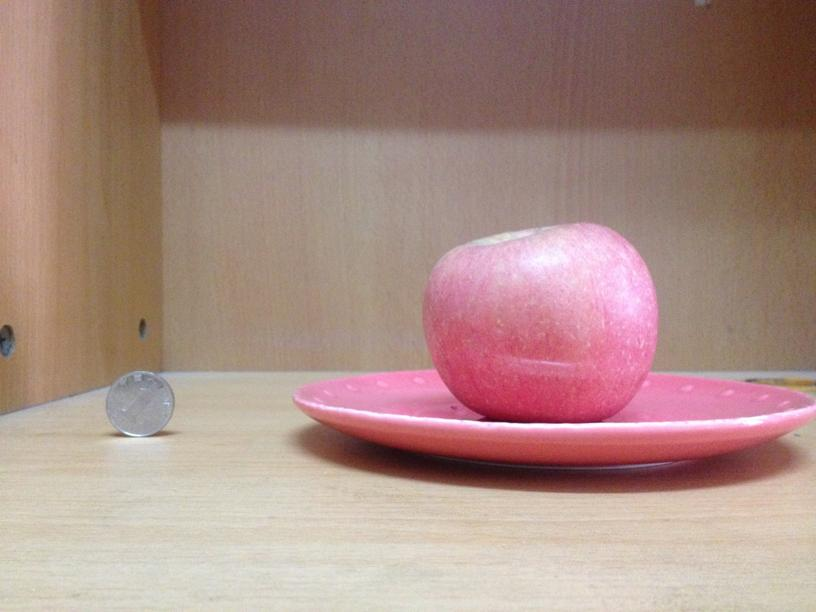apple: (420, 222, 660, 422)
coin: (105, 368, 175, 437)
